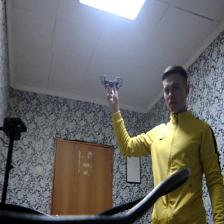drone: (96, 69, 126, 95)
